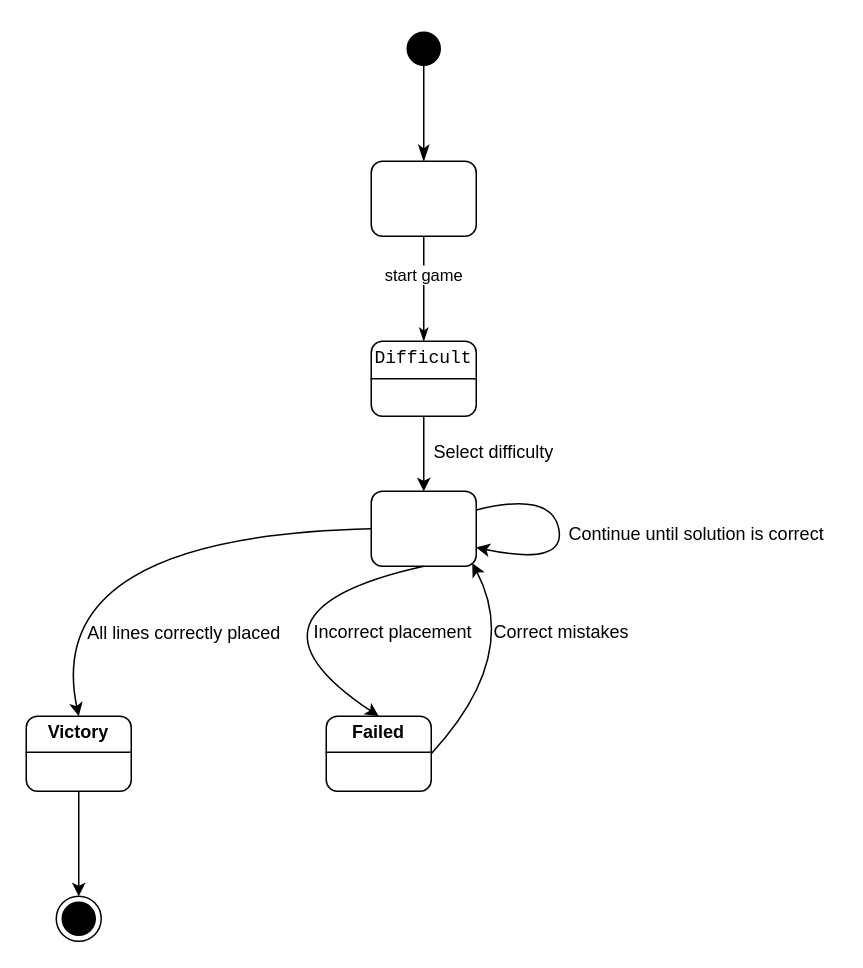
Some shapes in this 863 by 968 pixel diagram are drawn without their labels. Here are the shapes that lost their labels. From the top down, the box of each, then its label:
(370, 160, 476, 236): Start
(370, 490, 476, 566): InProgress
